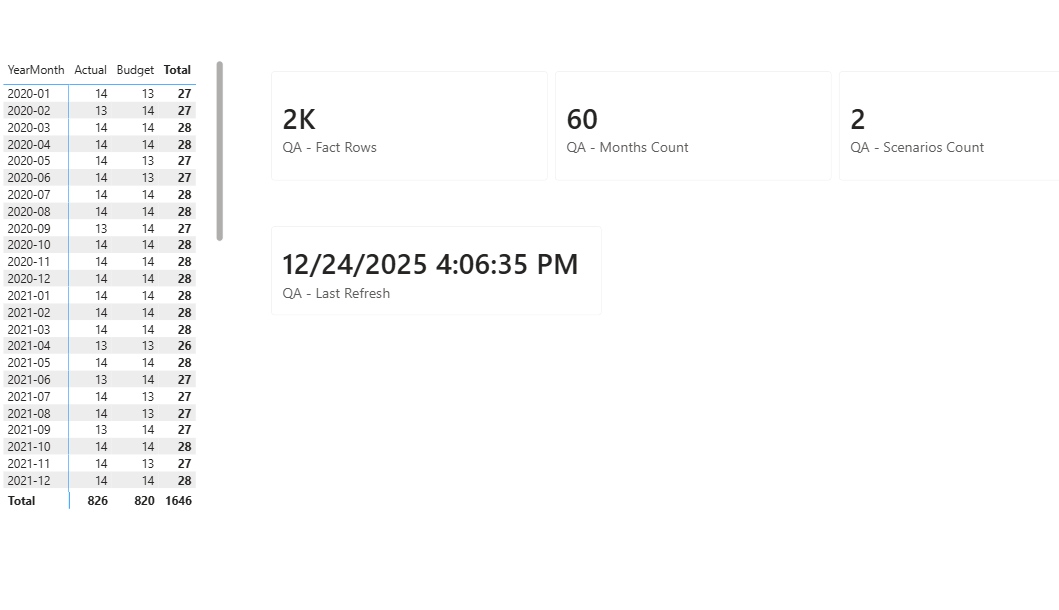

This screenshot's page, from the dashboard's own definition file:
{"tool":"powerbi","page":{"name":"04_Data Quality","canvas":[1280,720],"ordinal":2},"visuals":[{"type":"pivotTable","fields":{"Rows":["DimCalendar.YearMonth"],"Columns":["FactPnL.Scenario"],"Values":["Measures (2).QA - Fact Rows"]},"box":[0,79.2,258.9,516.7],"z":0},{"type":"cardVisual","fields":{"Data":["Measures (2).QA - Fact Rows","Measures (2).QA - Months Count","Measures (2).QA - Scenarios Count"]},"box":[290.6,79.2,989.4,158.3],"z":1000},{"type":"cardVisual","fields":{"Data":["Measures (2).QA - Last Refresh"]},"box":[290.6,254.4,408.2,135.7],"z":2000}]}

Visuals, with their boxes in screenshot pixels (x1, y1, x2, y2), scaled from the page's 1280x720 canvas onto the 1059x610 screenshot:
pivotTable - DimCalendar.YearMonth x FactPnL.Scenario: [0, 67, 214, 505]
cardVisual - Measures (2).QA - Fact Rows x Measures (2).QA - Months Count: [240, 67, 1058, 201]
cardVisual - Measures (2).QA - Last Refresh: [240, 216, 578, 331]
